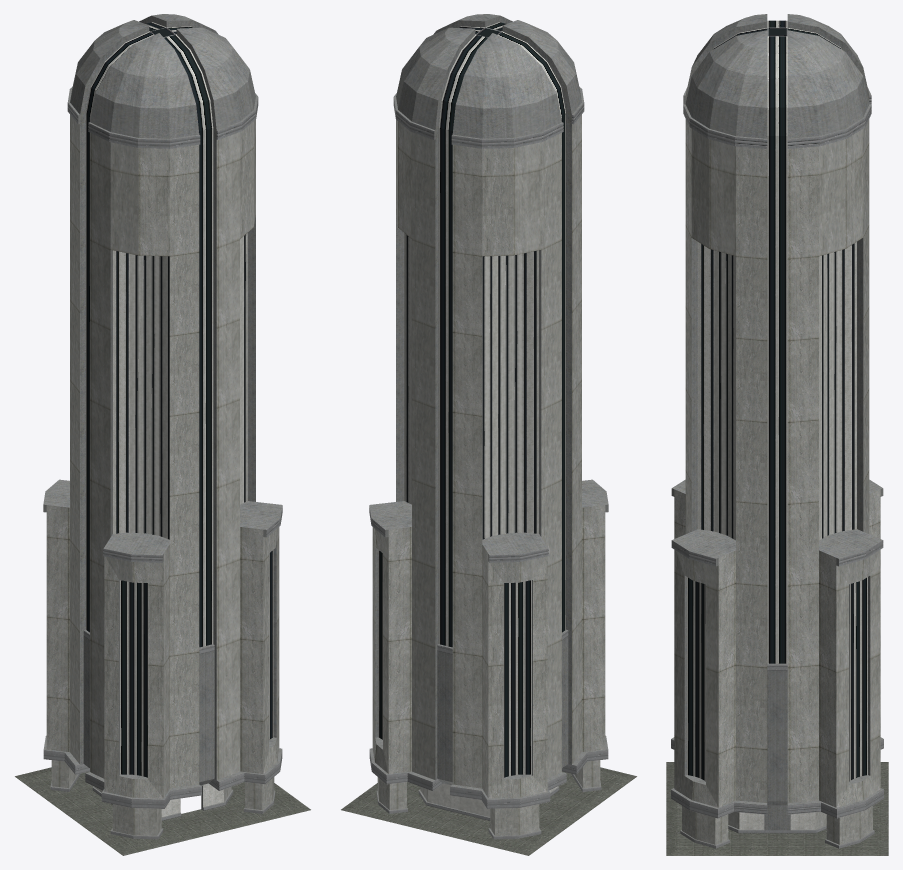
Rendered from thm_corl_skyskraper_s05_r0_mesh_l0.fbx.
The picture shows the model from 3 angles, left to right: view 1: azimuth 30°, elevation 25°; view 2: azimuth 150°, elevation 25°; view 3: azimuth 270°, elevation 25°; orthographic projection. The views are drawn at different scales.
Visible parts, largest first — view 1: mesh_node; view 2: mesh_node; view 3: mesh_node.
Part boxes in pixels (<box>): mesh_node: <box>15,14,310,855</box>; mesh_node: <box>341,14,636,855</box>; mesh_node: <box>666,14,888,855</box>.
Size of the model in its own units: 39.1 by 152 by 39.1.
